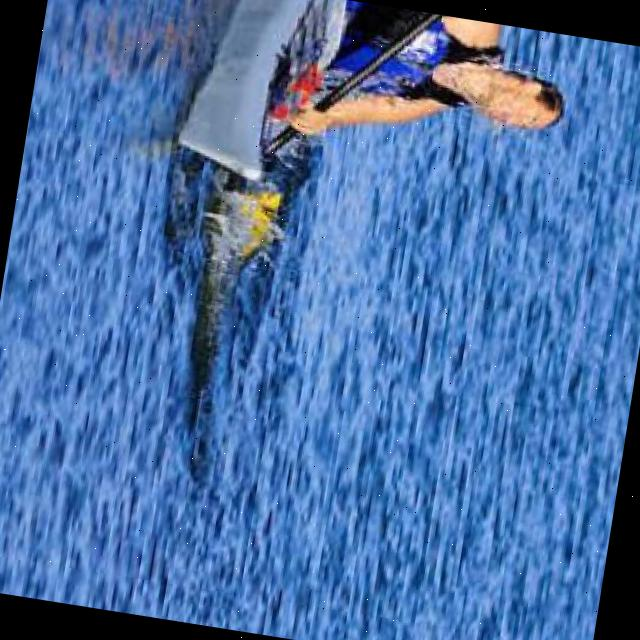kayak: (178, 0, 346, 183)
